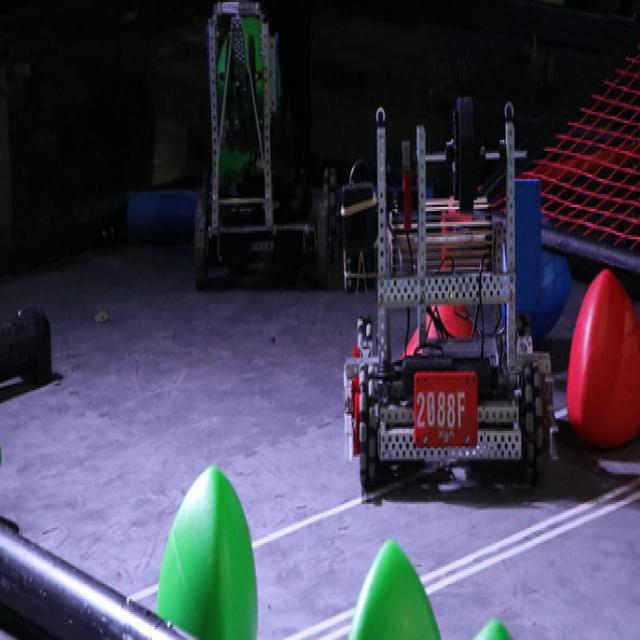License-Plates: (415, 378, 477, 447)
